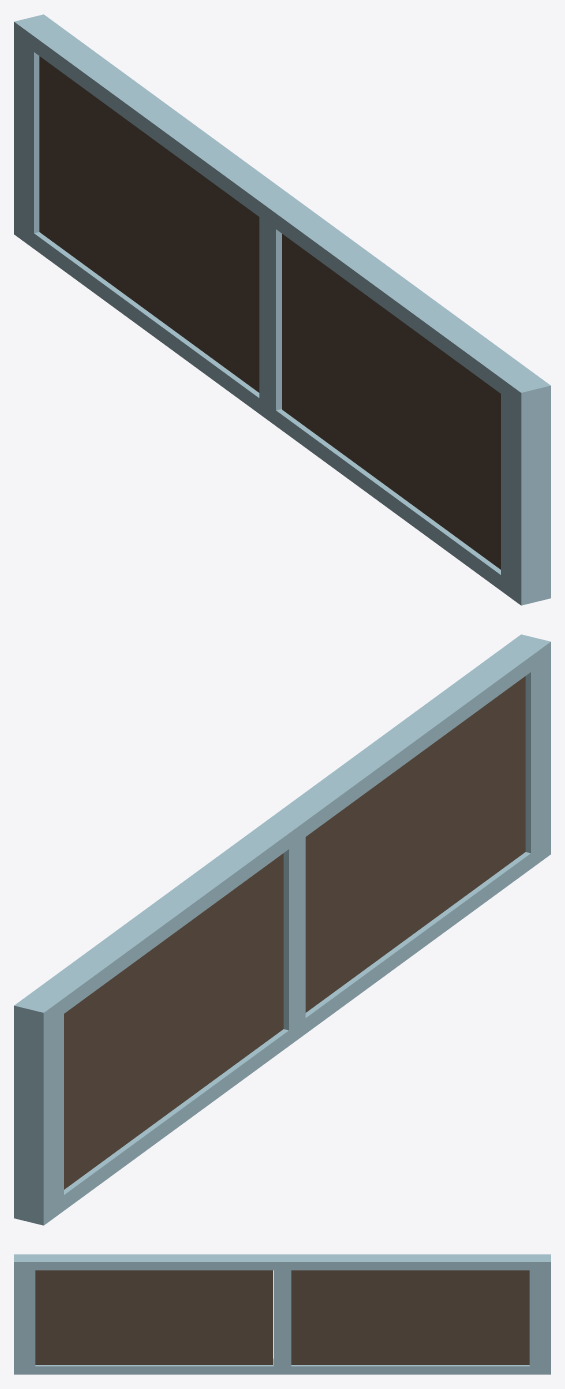
File: Garage_Windows.fbx
The picture shows the model from 3 angles, top to bottom: view 1: azimuth 30°, elevation 25°; view 2: azimuth 150°, elevation 25°; view 3: azimuth 270°, elevation 25°; orthographic projection. The views are drawn at different scales.
Parts seen in each view (by area): view 1: Garage_Windows; view 2: Garage_Windows; view 3: Garage_Windows.
Boxes of the visible parts, box(x1,y1,x2,y2) form: Garage_Windows: box(14, 14, 550, 605); Garage_Windows: box(14, 634, 550, 1225); Garage_Windows: box(14, 1254, 550, 1374).
Size of the model in its own units: 11.96 by 81.55 by 352.
